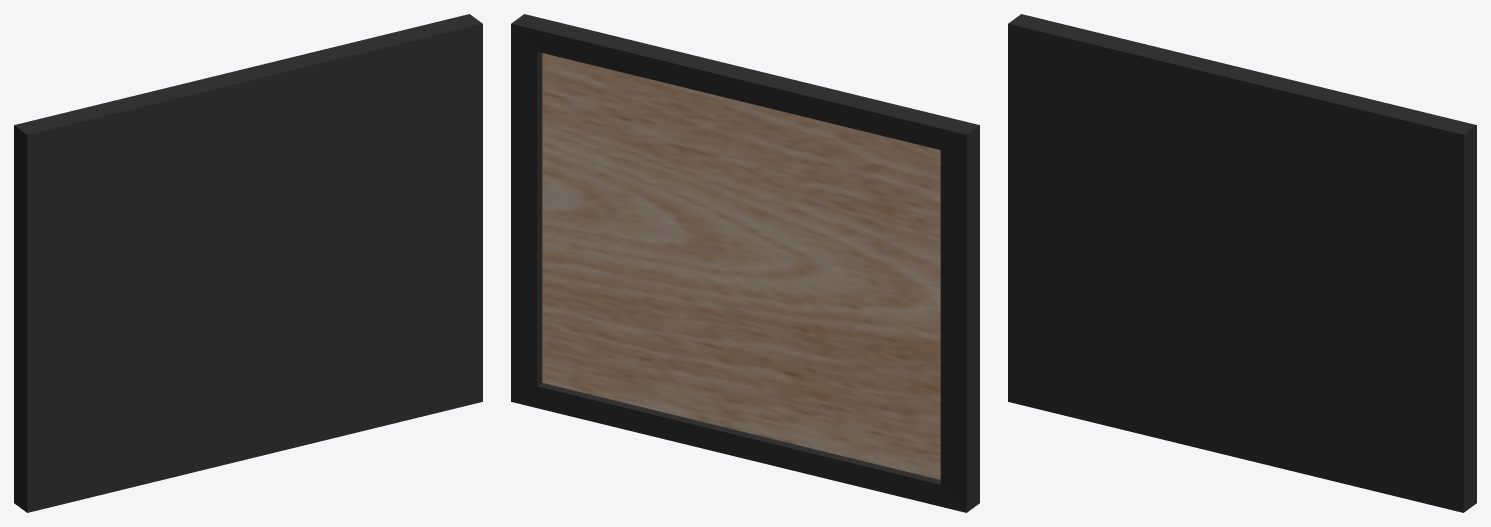
File: Tablero.fbx
3 views of the same model, side by side, from view 1: azimuth 30°, elevation 25°; view 2: azimuth 150°, elevation 25°; view 3: azimuth 330°, elevation 25° (orthographic).
Parts seen in each view (by area): view 1: Tablero; view 2: Tablero; view 3: Tablero.
Boxes of the visible parts, box(x1,y1,x2,y2) form: Tablero: box(14, 14, 482, 512); Tablero: box(511, 14, 979, 512); Tablero: box(1008, 14, 1476, 512).
Size of the model in its own units: 206 by 164 by 10.43.
